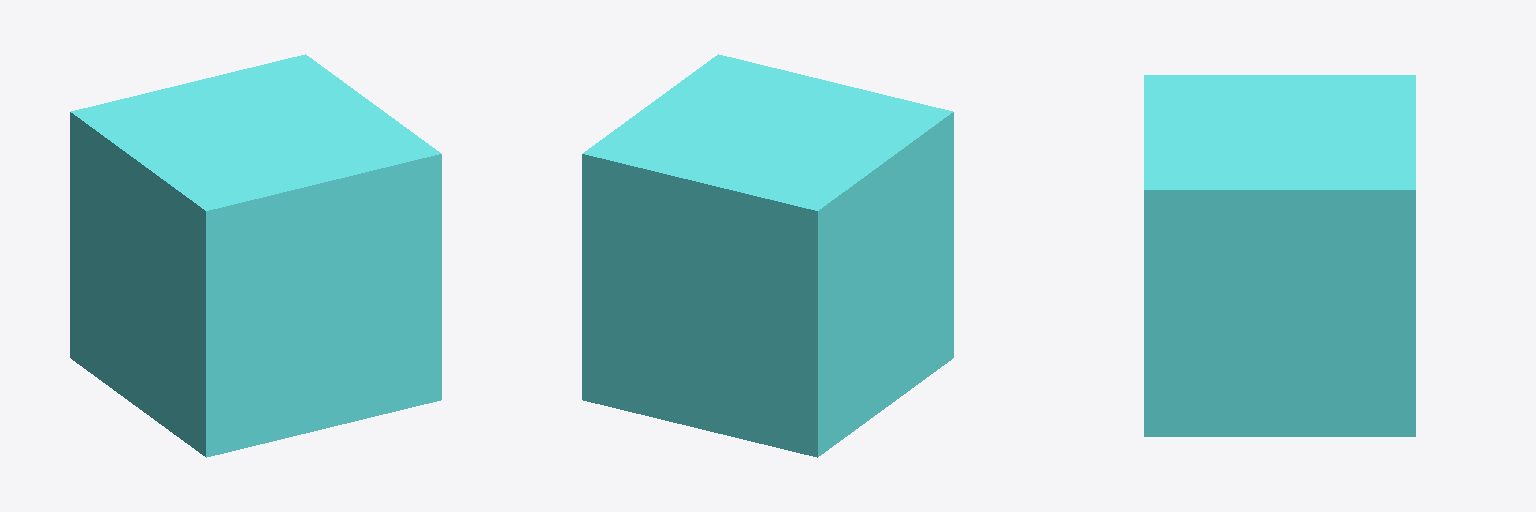
3 views of the same model, side by side, from view 1: azimuth 30°, elevation 25°; view 2: azimuth 150°, elevation 25°; view 3: azimuth 270°, elevation 25° (orthographic).
Bounding box in the file's own units: 40 × 40 × 40.
Materials: 1 (1 with a texture image).